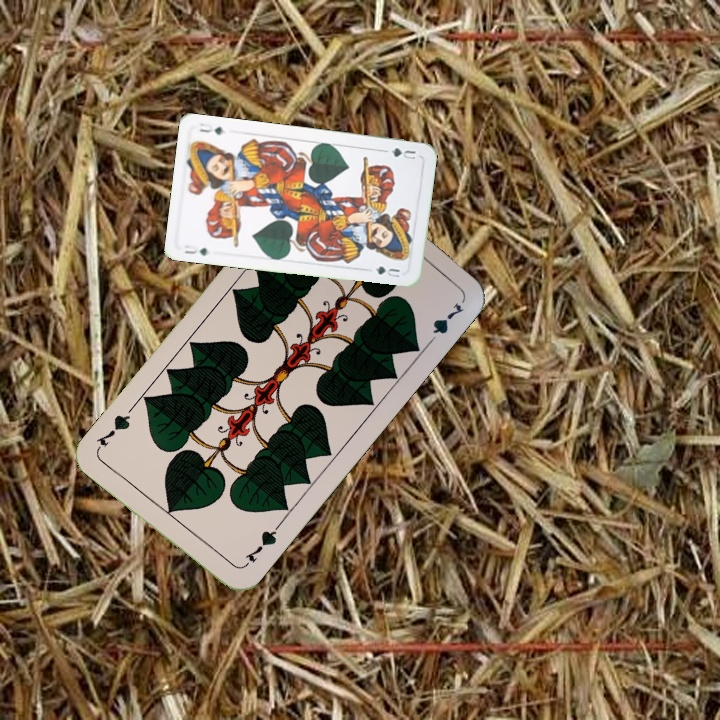G7: (238, 522, 282, 571)
GU: (387, 144, 418, 162), (180, 243, 210, 258)
